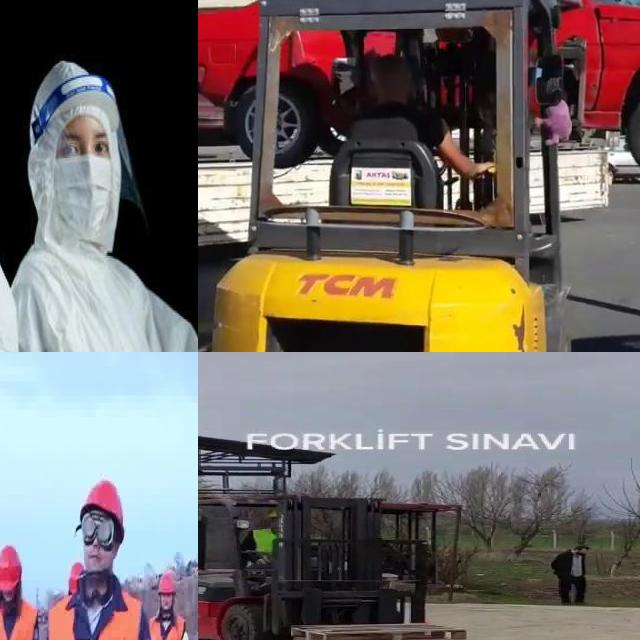GLASS: (81, 512, 118, 553)
HELMET: (82, 482, 124, 530), (0, 545, 22, 593), (68, 563, 84, 596), (155, 575, 177, 595)
MASK: (54, 154, 114, 238)
VEST: (0, 594, 38, 640), (148, 612, 188, 640)
